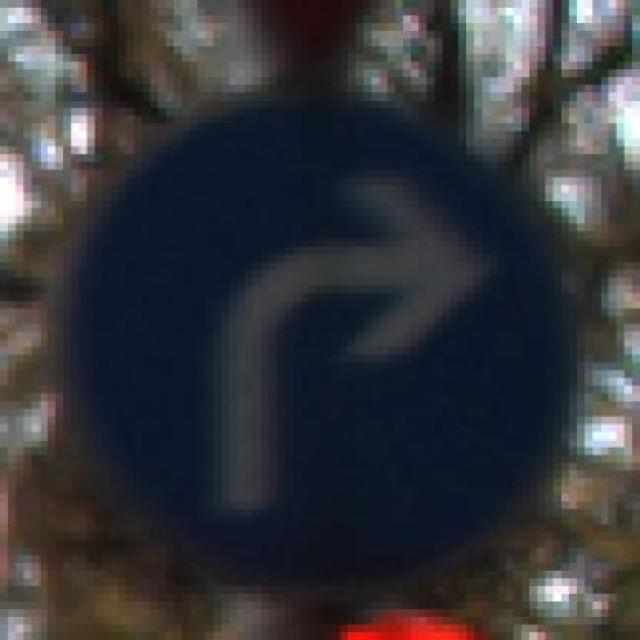Turn right ahead: (48, 93, 584, 602)
